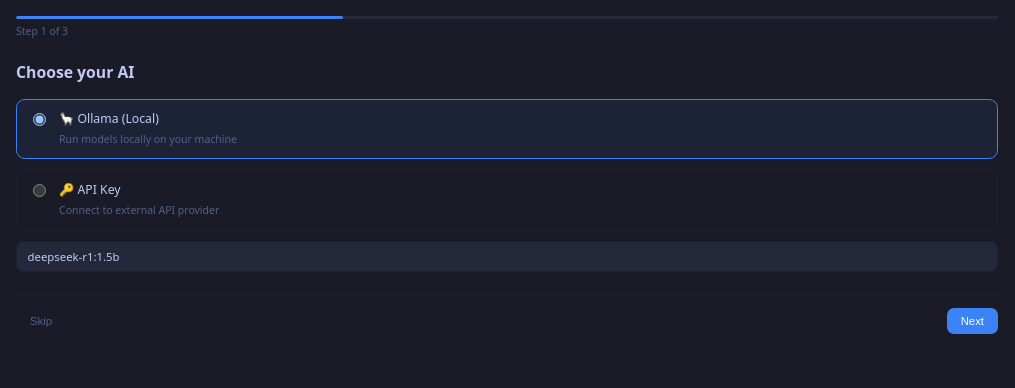
Test: OnboardingWizard › advances to step 3 when Next is clicked on step 2
# Step 1 → Step 2
Click the button "Next". click: (972, 321)
box: [947,308,998,334]
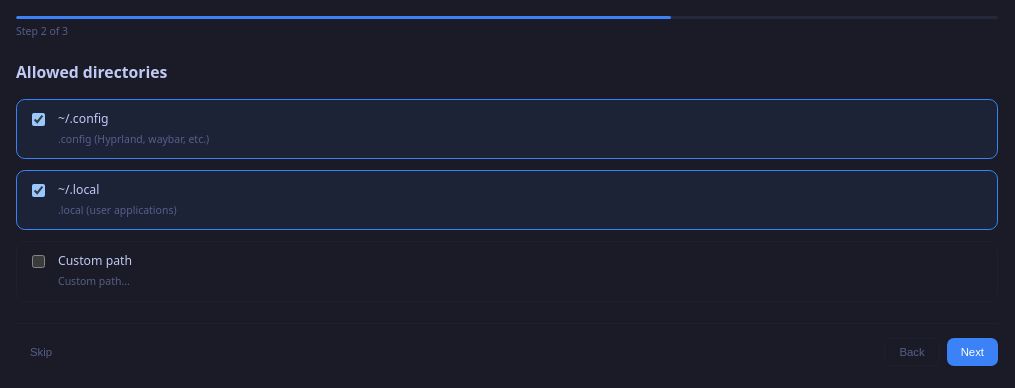
# Step 2 → Step 3
Click the button "Next". click: (972, 352)
box: [947,338,998,366]
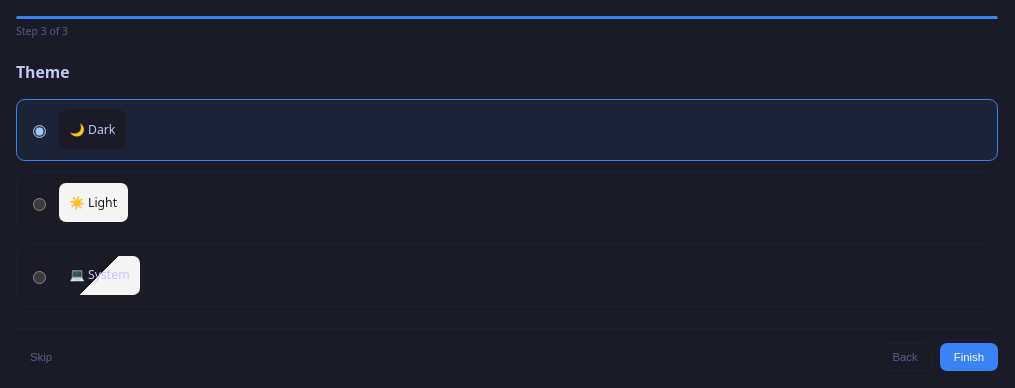
Expected: the heading "Theme" is shown, [16,61,70,83]
Expected: the text "Step 3 of 3" is shown, [16,24,68,38]
